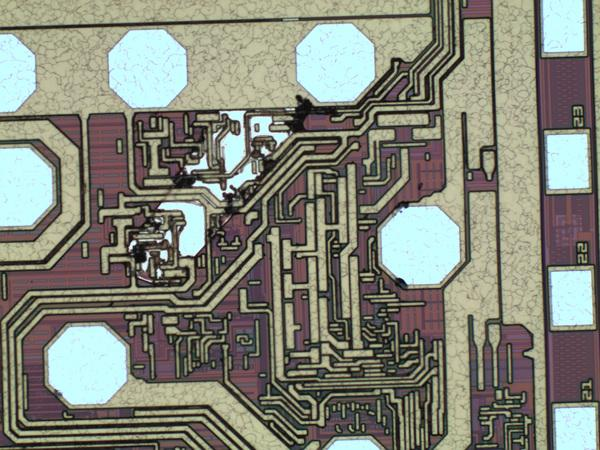BLOCK ETCH: (121, 98, 436, 296)
